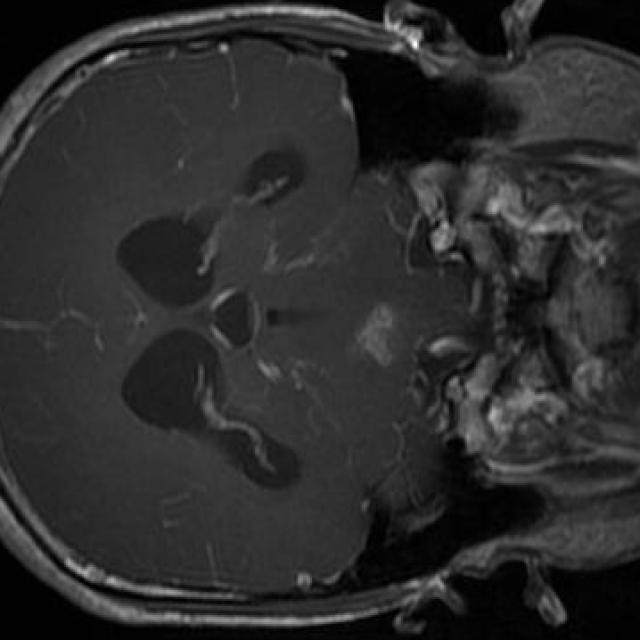glioma: (355, 305, 410, 367)
